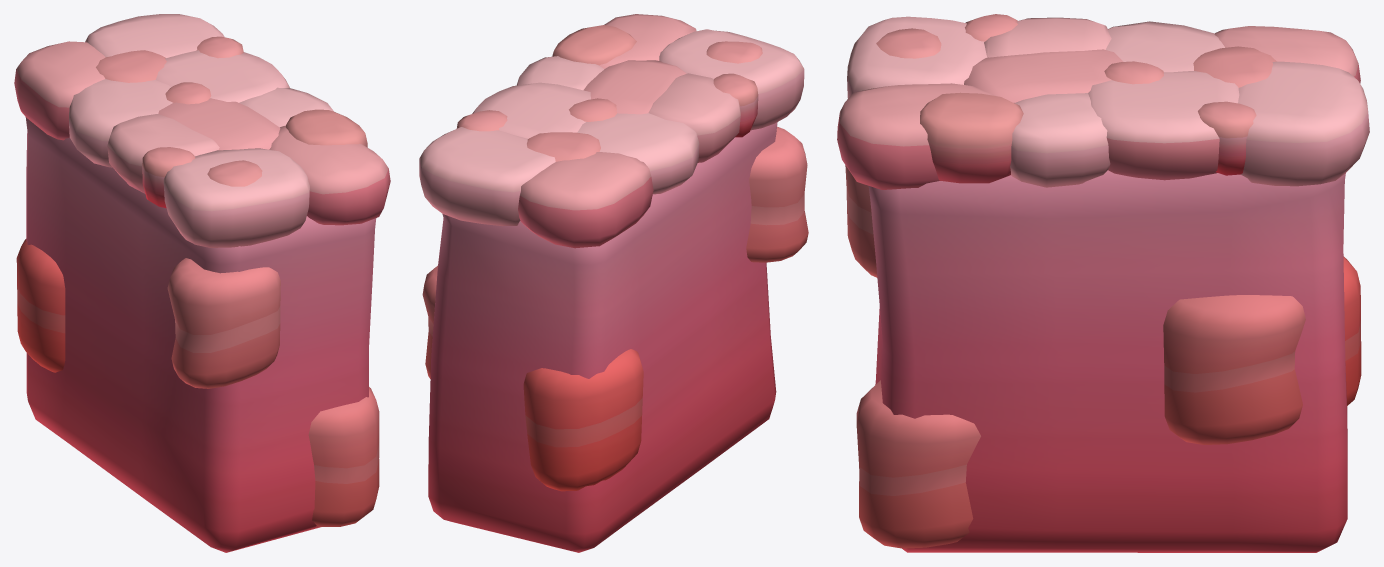
Rendered from Platform_B_03.glb.
3 renders of one model, left to right at view 1: azimuth 30°, elevation 25°; view 2: azimuth 150°, elevation 25°; view 3: azimuth 270°, elevation 25°, orthographic. The views are drawn at different scales.
Parts seen in each view (by area): view 1: Platform_B_03; view 2: Platform_B_03; view 3: Platform_B_03.
Boxes of the visible parts, box(x1,y1,x2,y2) form: Platform_B_03: box(14, 14, 390, 552); Platform_B_03: box(419, 14, 808, 552); Platform_B_03: box(837, 14, 1369, 552).
Size of the model in its own units: 7.7 by 12 by 12.96.
1 material, 1 textured.
